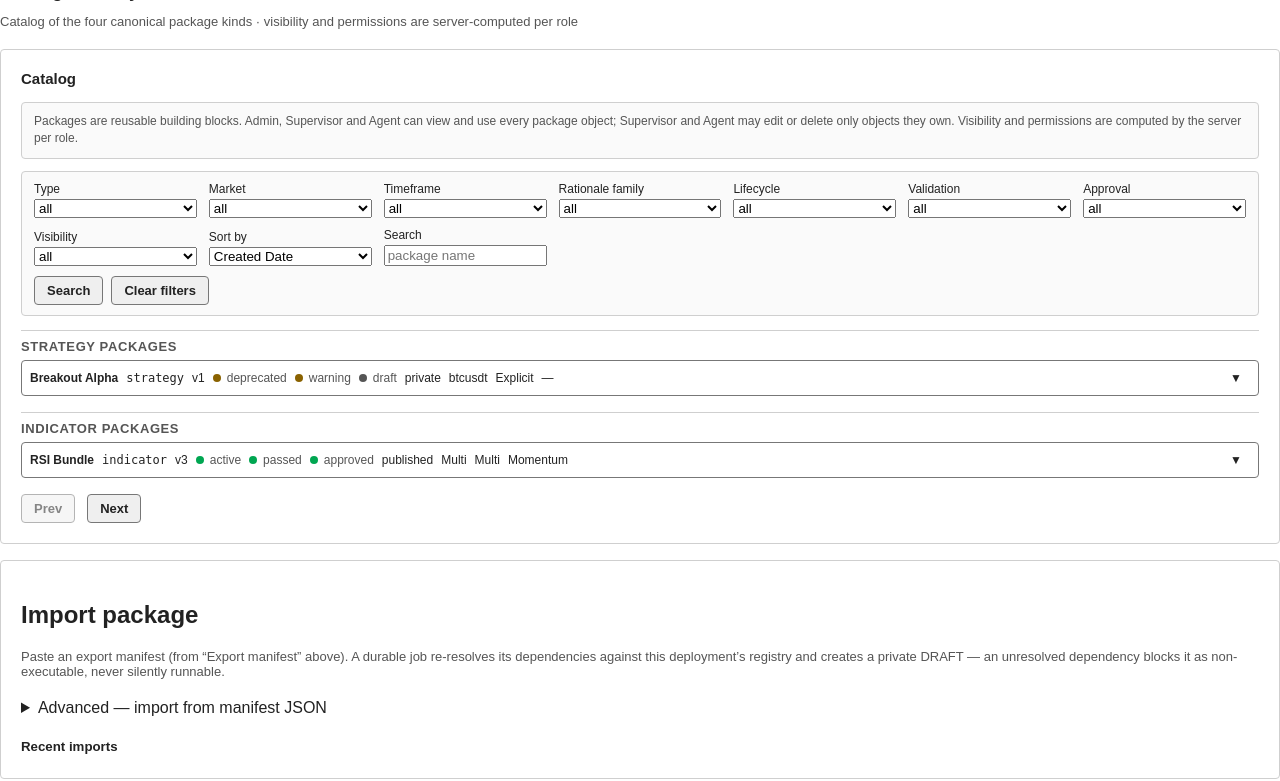
Package Library page › opens the detail with permissions, N/A performance (L4), provenance and history
Expected: the text "RSI Bundle" is shown, [30,453,94,467]
Step 1. Click the button named "Detail" → (1236, 460), box [1222,446,1250,474]
(page scrolled)
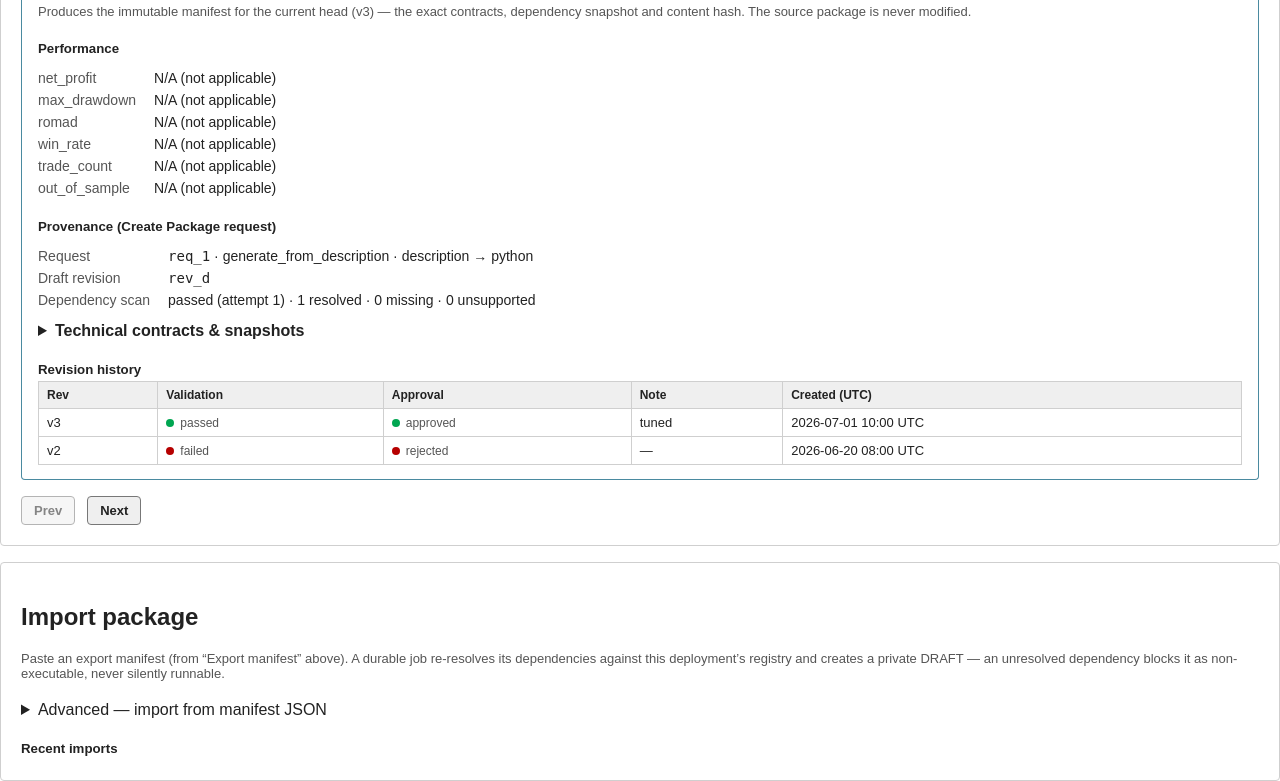
Now the text "N/A (not applicable)" is shown 6 times, box [154,70,276,86]; [154,92,276,108]; [154,114,276,130]; [154,136,276,152]; [154,158,276,174]; [154,180,276,196]
Now the text "req_1" is shown, box [168,248,210,264]
Now the text "passed (attempt 1) · 1 resolved · 0 missing · 0 unsupported" is shown, box [168,292,536,308]
